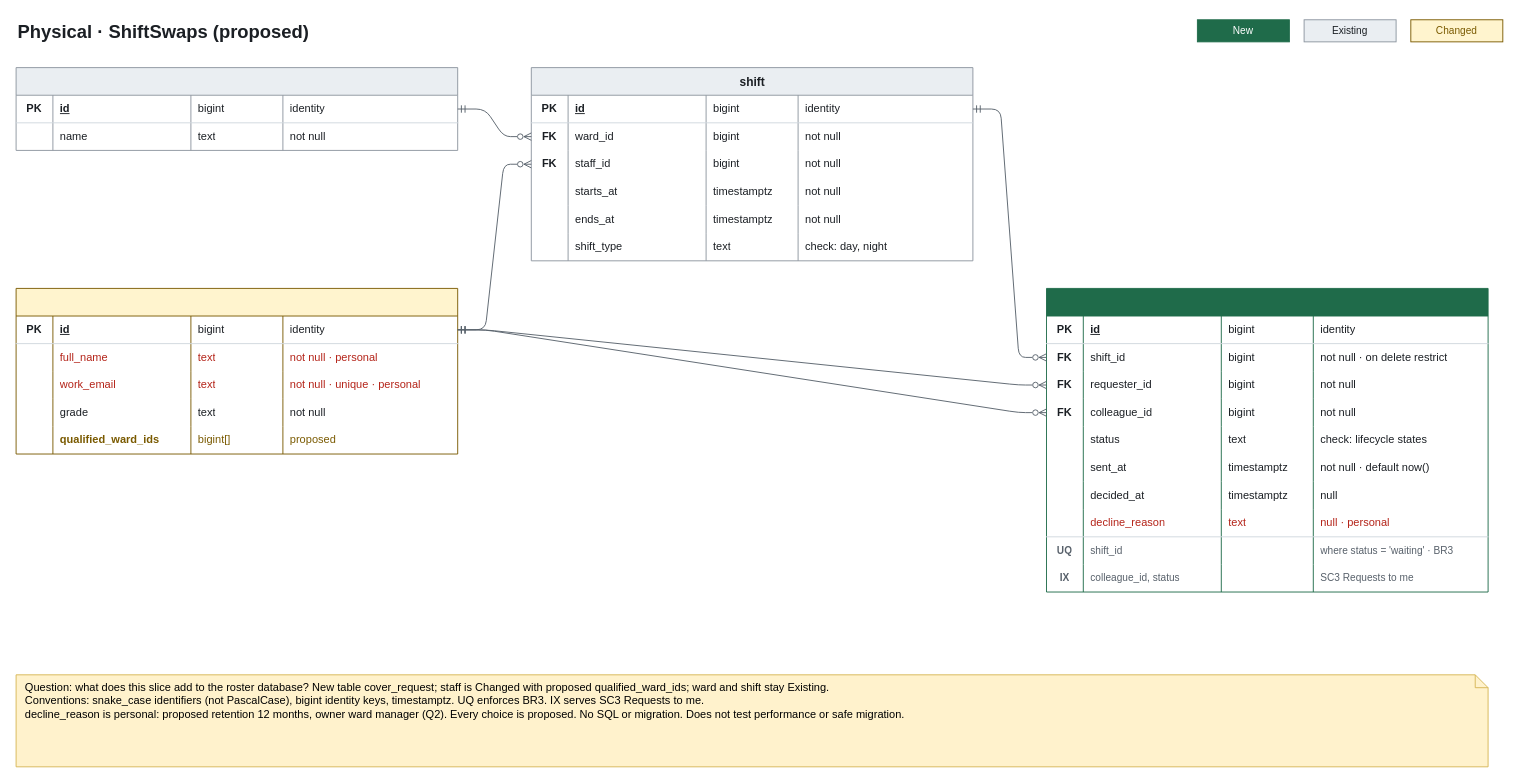
The diagram is 1519 pixels wide and 783 high, and some of its shapes have lost their labels. Here are the shapes that lost their labels. From the top down, the box of each, then its label:
(15, 67, 458, 150): ward
(15, 288, 458, 454): staff
(1046, 288, 1488, 592): cover_request
